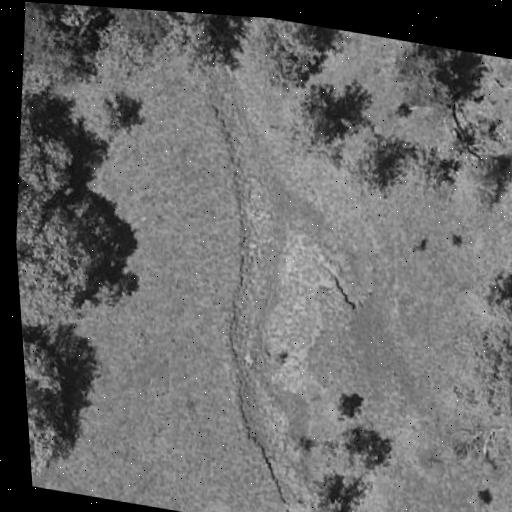tree-top: (14, 206, 127, 341), (432, 274, 512, 430), (22, 329, 94, 480), (232, 15, 335, 102), (81, 5, 175, 96), (16, 1, 89, 99), (393, 40, 479, 120), (148, 10, 235, 89), (268, 91, 345, 173), (13, 130, 83, 209), (328, 136, 397, 207), (443, 154, 504, 220), (311, 429, 384, 484), (75, 96, 134, 149), (396, 144, 448, 196), (274, 478, 353, 512), (24, 2, 109, 25)
